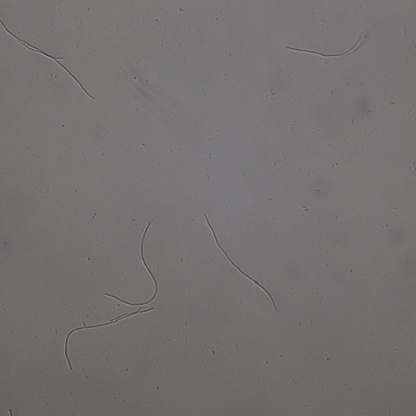Sensitive: (205, 214, 276, 311), (63, 308, 152, 370), (106, 223, 157, 306), (21, 43, 93, 99), (1, 21, 64, 60), (287, 32, 364, 57)
